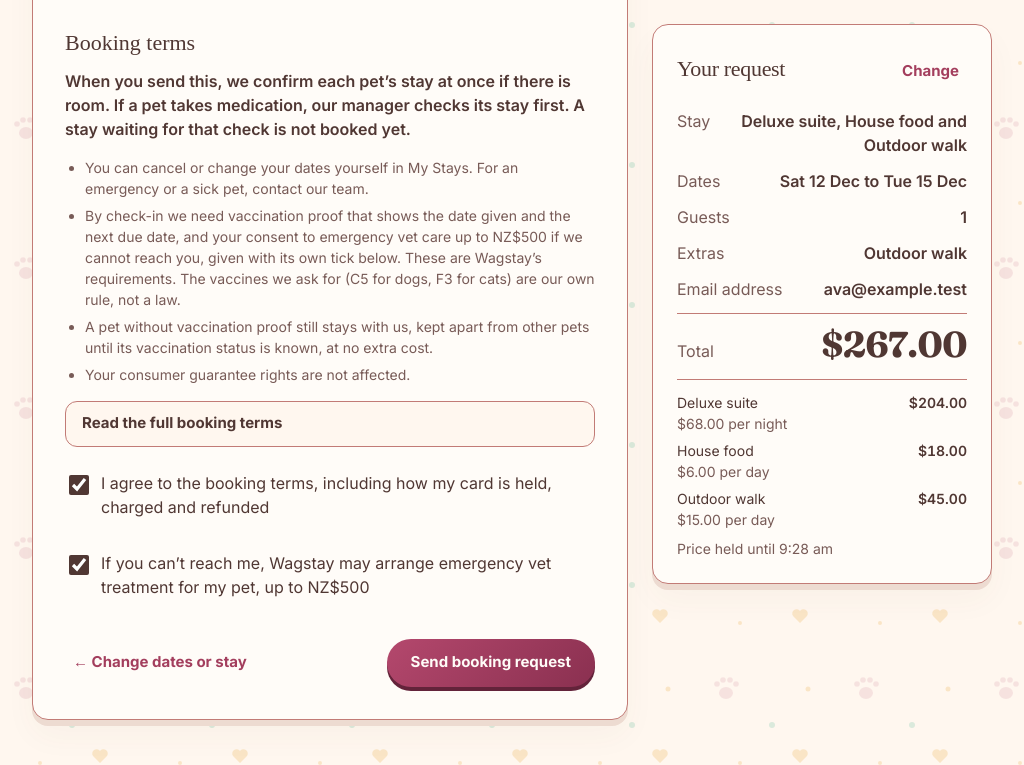
the card that guarantees a concierge request › asks the parent to sign in again, in place, when the session lapsed, then sends with the same card
Later steps or results of the test are not shown.
(page scrolled)
Click the button "Send booking request".
click(491, 663)  # box [387, 639, 595, 687]
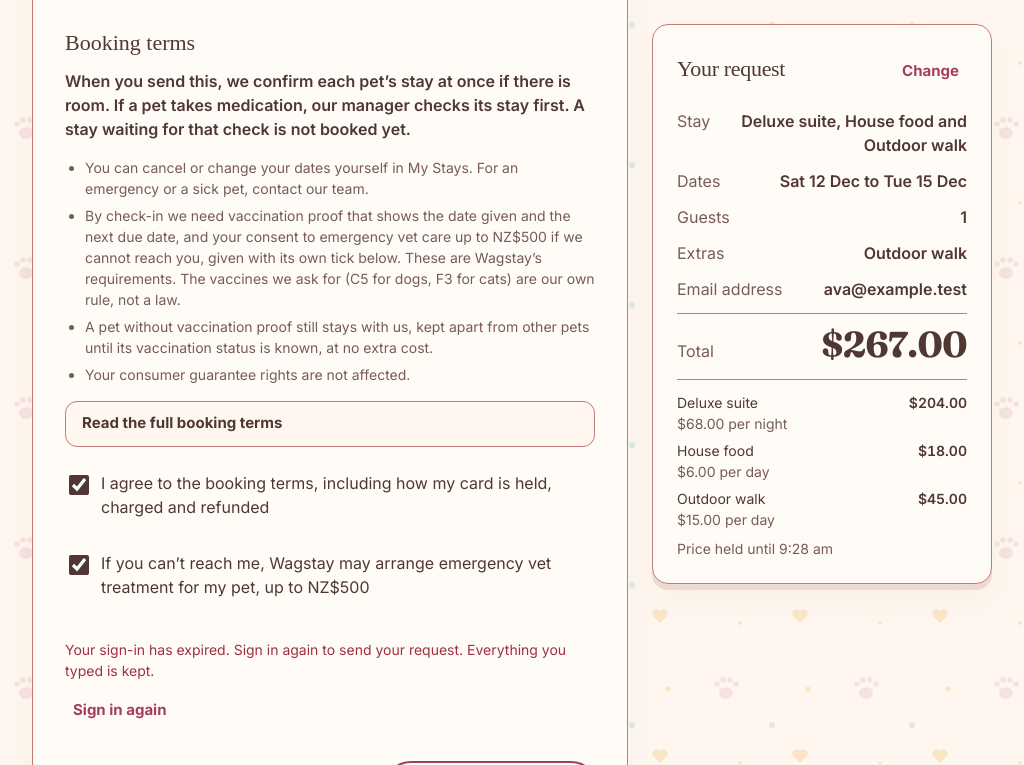
Expected: the text "Your sign-in has expired" is shown, [65, 641, 566, 679]
